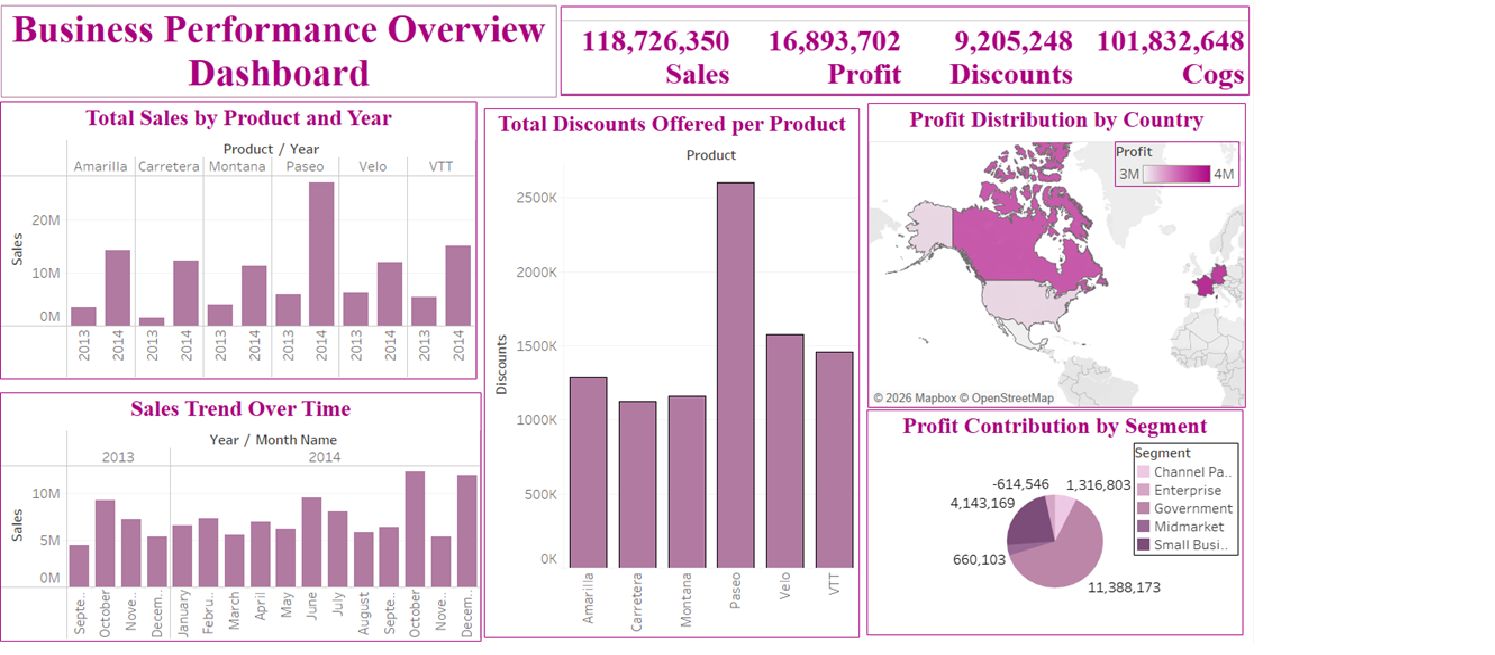

The dashboard page shown, as its layout file describes it:
{"tool":"tableau","page":{"name":"Dashboard 1","canvas":[1400,750],"ordinal":0},"visuals":[{"type":"text","box":[6,10,619,106]},{"type":"worksheet","title":"KPI","mark":"Automatic","box":[629,11,767,103]},{"type":"worksheet","title":"Total Sales by Product and Year","mark":"Automatic","rows":["Sales"],"cols":["Product","Year"],"box":[5,121,531,320]},{"type":"worksheet","title":"Profit Distribution by Country","mark":"Automatic","box":[971,123,421,351]},{"type":"worksheet","title":"Total Discounts Offered per Product","mark":"Automatic","rows":["Discounts"],"cols":["Product"],"box":[544,128,418,611]},{"type":"legend","title":"Profit Distribution by Country","param":"[federated.0wq9kpp0lax1ip121a3ht1q9ugsn].[sum:Profit:qk]","box":[1246,167,139,52]},{"type":"worksheet","title":"Sales Trend Over Time","mark":"Automatic","rows":["Sales"],"cols":["Year","Month Name"],"box":[5,456,536,287]},{"type":"worksheet","title":"Profit Contribution by Segment","mark":"Pie","box":[970,476,419,260]},{"type":"legend","title":"Profit Contribution by Segment","param":"[federated.0wq9kpp0lax1ip121a3ht1q9ugsn].[none:Segment:nk]","box":[1267,514,117,130]}]}

Visuals, with their boxes in screenshot pixels (x1, y1, x2, y2):
text: [1,0,553,92]
"KPI" worksheet: [557,0,1241,90]
"Total Sales by Product and Year" worksheet: [1,96,474,382]
"Profit Distribution by Country" worksheet: [862,98,1237,411]
"Total Discounts Offered per Product" worksheet: [481,102,854,647]
"Profit Distribution by Country" legend: [1107,137,1231,184]
"Sales Trend Over Time" worksheet: [1,395,478,651]
"Profit Contribution by Segment" worksheet (Pie marks): [861,413,1235,645]
"Profit Contribution by Segment" legend: [1126,447,1230,563]
